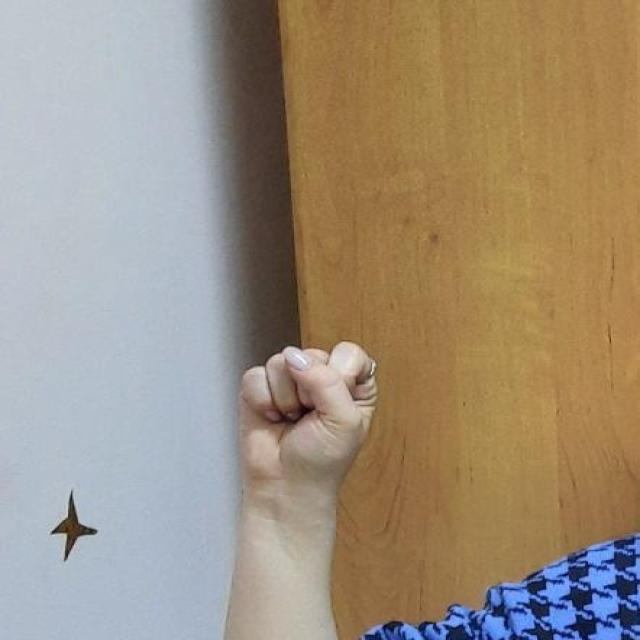hand: (236, 338, 379, 508)
